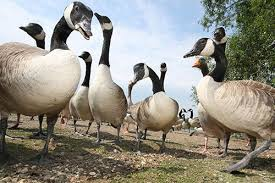goose: (1, 1, 95, 165), (182, 37, 275, 175), (88, 10, 129, 144), (130, 61, 179, 157), (69, 49, 95, 135), (207, 27, 234, 80), (17, 20, 47, 51), (156, 59, 168, 92), (187, 108, 201, 132), (173, 107, 187, 125)
